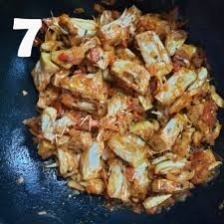sabzi: (20, 0, 224, 218)
